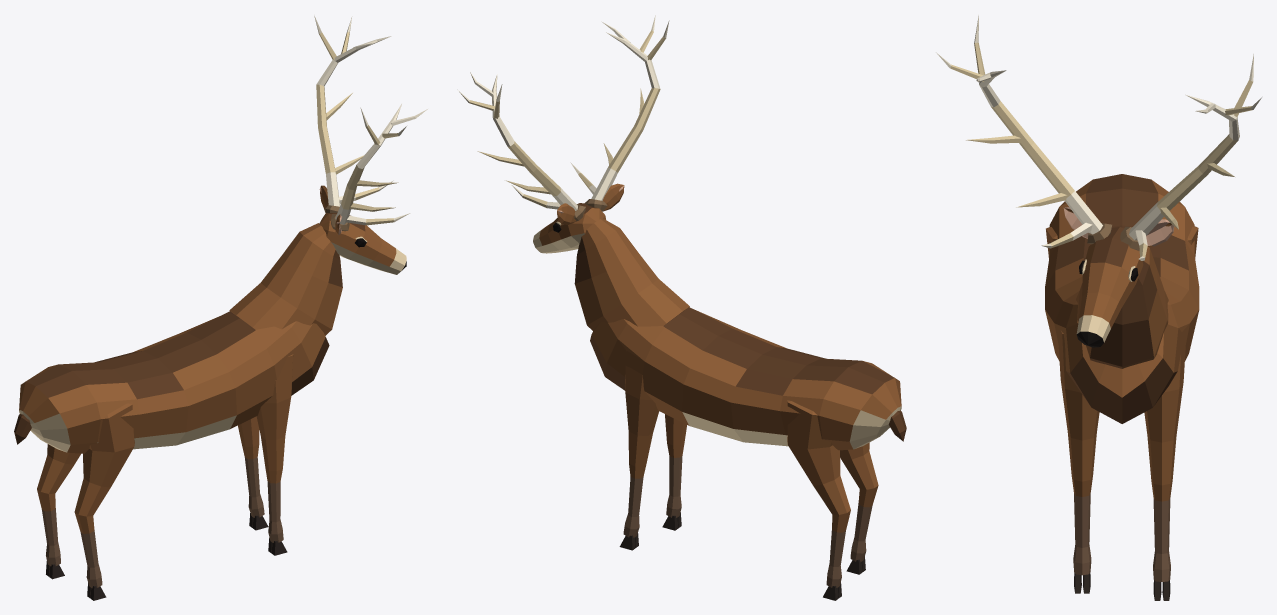
File: LowPoly_Animal.glb
3 renders of one model, left to right at view 1: azimuth 30°, elevation 25°; view 2: azimuth 150°, elevation 25°; view 3: azimuth 270°, elevation 25°, orthographic. The views are drawn at different scales.
Visible parts, largest first — view 1: Stag_Body, Stag_Antlers; view 2: Stag_Body, Stag_Antlers; view 3: Stag_Body, Stag_Antlers, Stag_Ear_L.
Part boxes in pixels (x1,y1,x2,y2): Stag_Body: (19, 213, 406, 600); Stag_Antlers: (314, 15, 427, 231); Stag_Body: (533, 203, 901, 600); Stag_Antlers: (458, 15, 669, 221); Stag_Body: (1045, 174, 1199, 600); Stag_Antlers: (936, 15, 1261, 260); Stag_Ear_L: (1146, 219, 1174, 246).
Bounding box in the file's own units: 2.59 × 2.84 × 1.4.
